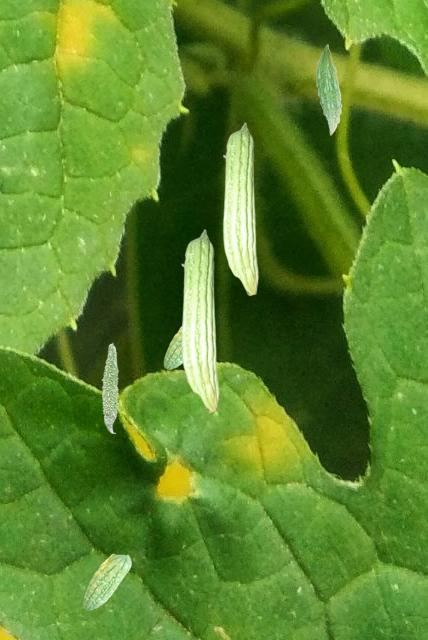ampalaya: (181, 229, 219, 413), (222, 122, 258, 296), (83, 553, 132, 610), (316, 44, 342, 135), (101, 342, 119, 434), (163, 326, 181, 370)
